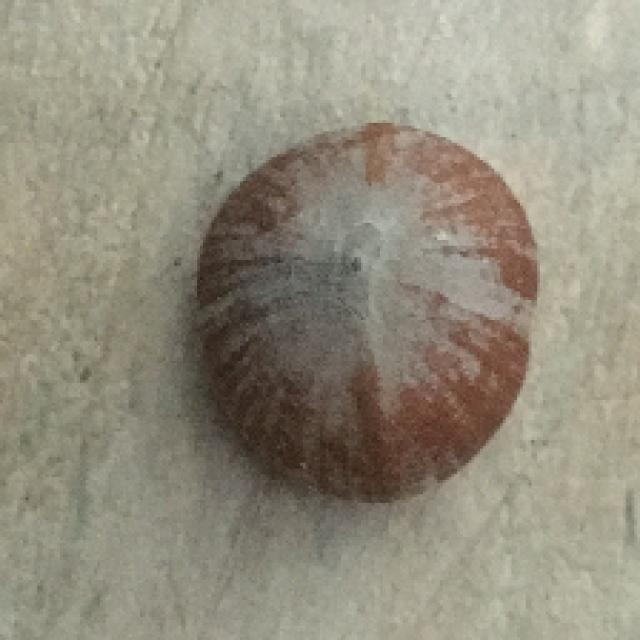qualityHazelnut: (185, 122, 538, 491)
